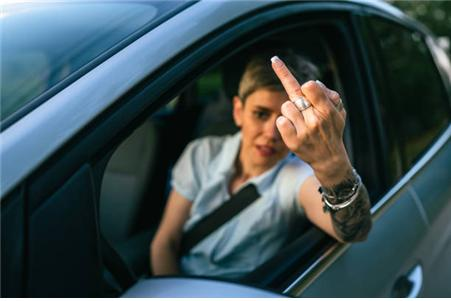insulting_gesture: (269, 55, 351, 175)
